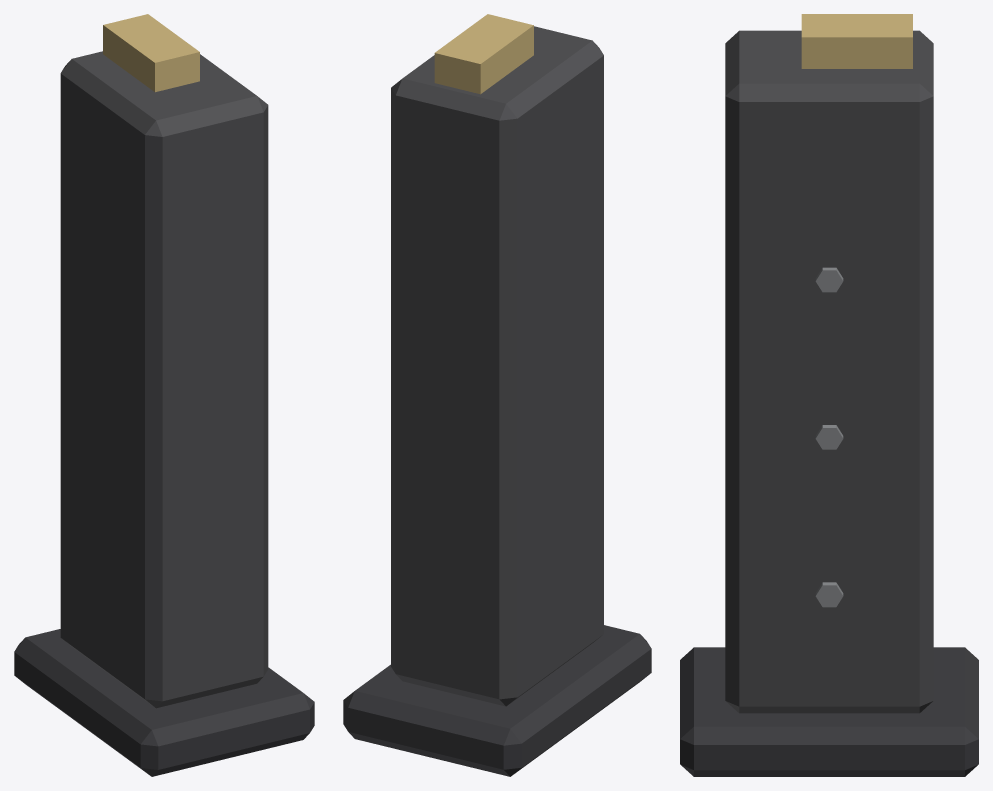
File: pistol_mag.glb
3 renders of one model, left to right at view 1: azimuth 30°, elevation 25°; view 2: azimuth 150°, elevation 25°; view 3: azimuth 270°, elevation 25°, orthographic. The views are drawn at different scales.
Parts seen in each view (by area): view 1: SpareMag; view 2: SpareMag; view 3: SpareMag.
Boxes of the visible parts, x1=… form: SpareMag: x1=14, y1=14, x2=314, y2=776; SpareMag: x1=343, y1=14, x2=651, y2=776; SpareMag: x1=680, y1=14, x2=978, y2=776.
Bounding box in the file's own units: 0.031 × 0.113 × 0.043.
